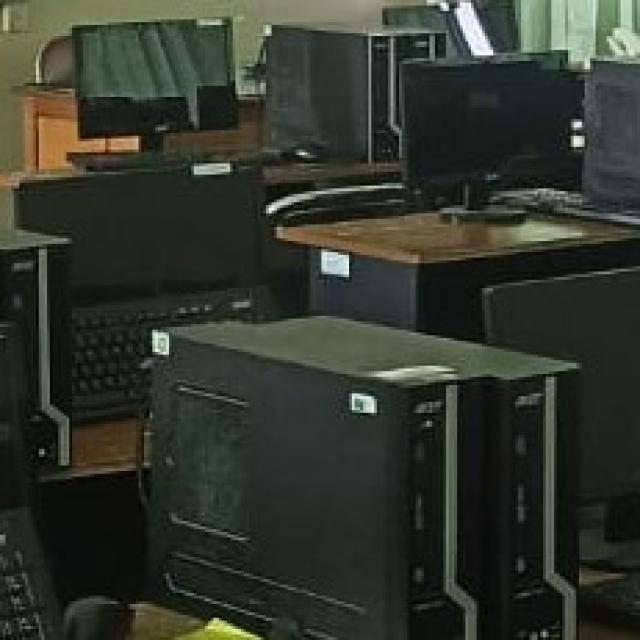offscreen: (76, 22, 234, 137)
